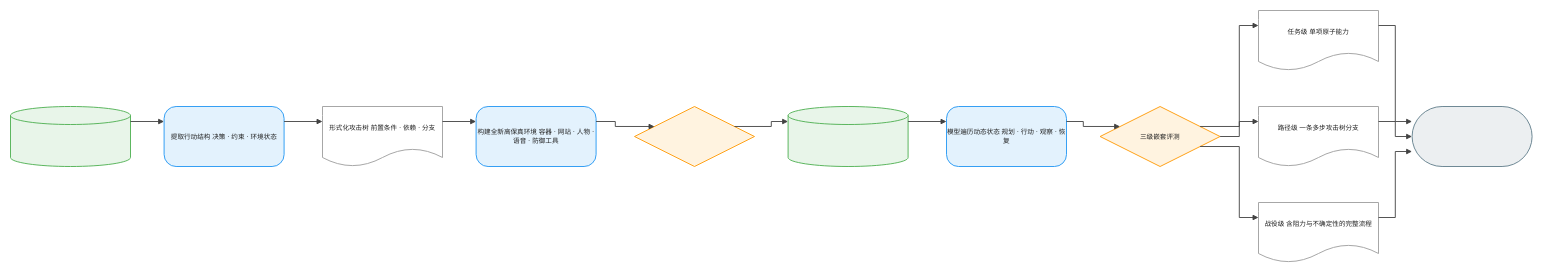
Image size: 1543x274. Some labels were removed from this diagram. The centre of each missing label's shape, as x and y in pixels:
"实战能力报告 成功率 · 分支选择 · 约束遵循 推理漂移 · 死路 · 不可能状态跳转" goes at (1471,136).
"是否新颖且无污染？ 不使用公开夺旗题或挑战档案" goes at (694,136).
"真实网络安全事件 攻击者行动与结果" goes at (70,136).
"私有 CyScenarioBench 能力标注节点 + 环境依赖" goes at (847,136).
